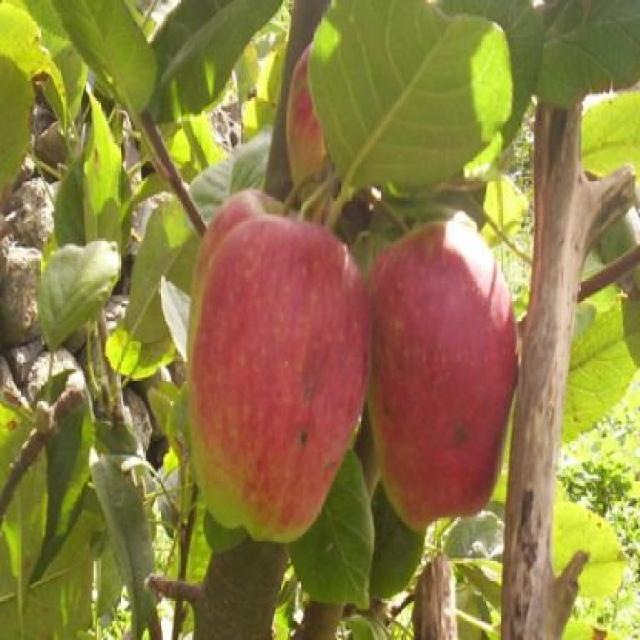Apple pie: (184, 210, 376, 547), (361, 204, 516, 526), (184, 188, 296, 360), (285, 43, 337, 219)
